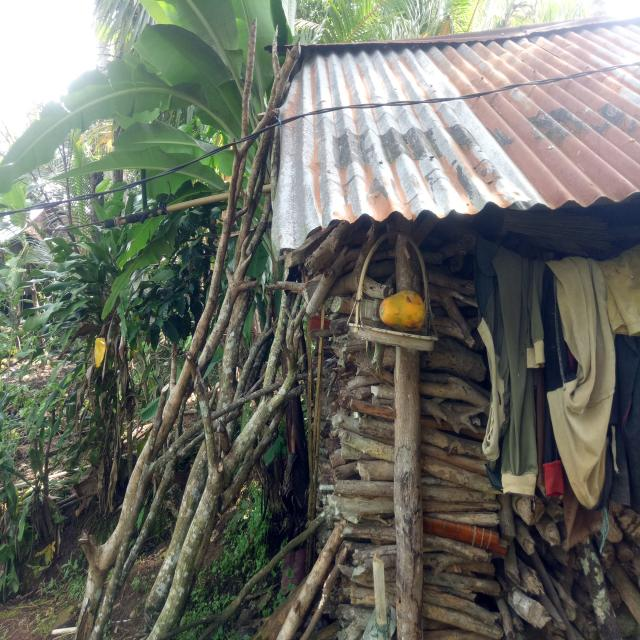Pepaya rippen: (373, 288, 428, 334)
